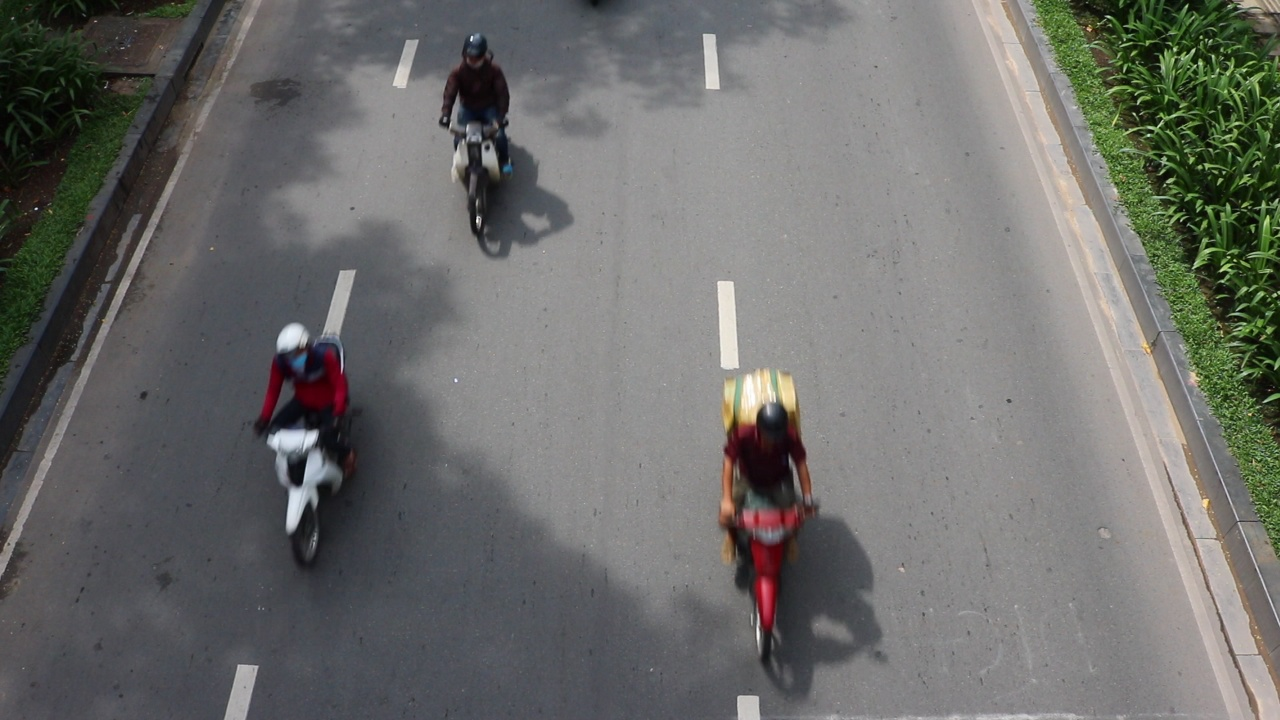motorcycle: (710, 484, 817, 662), (265, 405, 362, 566), (446, 113, 511, 257)
